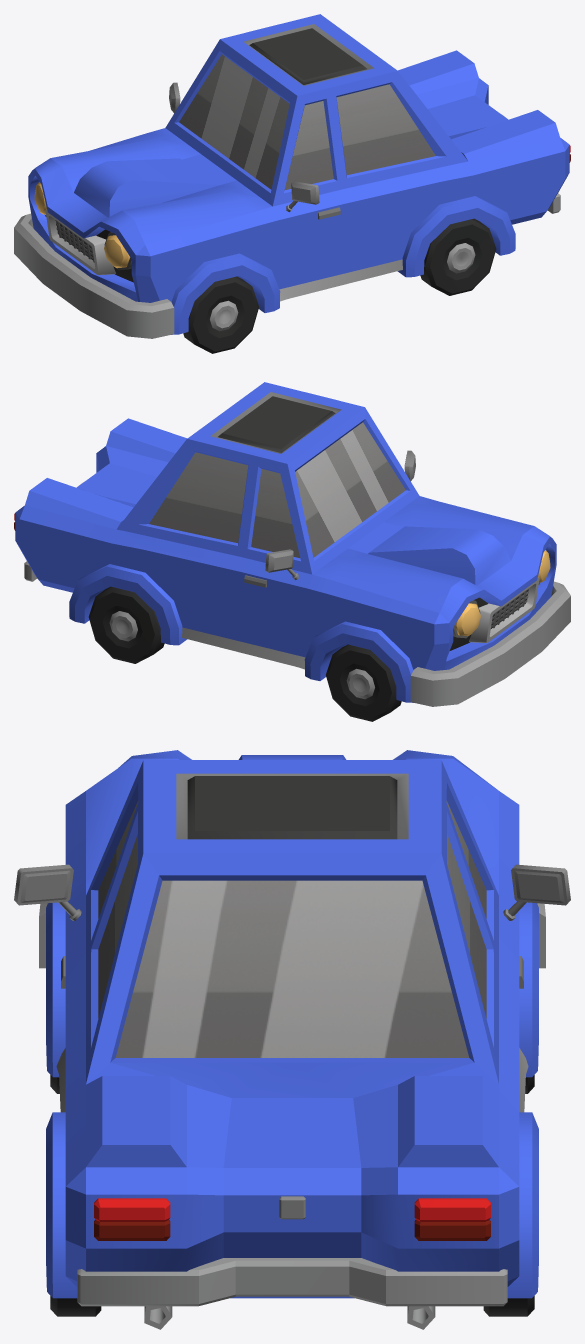
File: Car_17_K.gltf
3 views of the same model, one above another, from view 1: azimuth 30°, elevation 25°; view 2: azimuth 150°, elevation 25°; view 3: azimuth 270°, elevation 25° (orthographic). The views are drawn at different scales.
Visible parts, largest first — view 1: Car_17_K, RL, FL; view 2: Car_17_K, RR, FR; view 3: Car_17_K, RL, RR.
Boxes of the visible parts, x1,y1,x2,y2 form: Car_17_K: [14, 14, 570, 338]; RL: [420, 218, 496, 295]; FL: [183, 276, 258, 353]; Car_17_K: [14, 382, 570, 706]; RR: [88, 586, 164, 663]; FR: [326, 644, 401, 721]; Car_17_K: [14, 750, 570, 1329]; RL: [50, 1296, 101, 1316]; RR: [483, 1296, 534, 1316].
Size of the model in its own units: 3.39 by 1.53 by 1.85.
4 materials, 4 textured.
